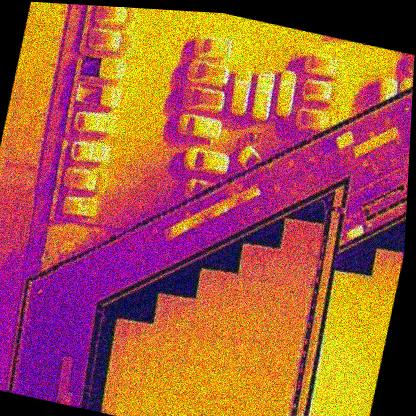Diode: (287, 315, 307, 349), (299, 255, 317, 288), (283, 346, 301, 378), (278, 376, 295, 409), (271, 407, 288, 416)
Hotspot: (192, 363, 214, 397), (166, 296, 186, 329), (107, 348, 126, 382), (136, 324, 156, 356), (180, 362, 198, 394), (186, 393, 207, 416), (200, 396, 219, 416), (309, 411, 327, 416)
Normal: (274, 313, 296, 350), (220, 272, 241, 309), (250, 246, 271, 282), (207, 271, 228, 307), (112, 380, 133, 416), (159, 327, 181, 361), (274, 248, 294, 285), (286, 252, 306, 289), (173, 328, 193, 365), (266, 373, 286, 410), (233, 338, 254, 373), (188, 301, 210, 334), (232, 276, 252, 312), (246, 340, 266, 376), (185, 330, 205, 366), (148, 323, 168, 359), (292, 221, 313, 255), (262, 313, 283, 347), (238, 309, 259, 343), (209, 335, 230, 369), (244, 277, 264, 312), (263, 248, 282, 284), (257, 280, 277, 314), (195, 269, 215, 303), (344, 329, 364, 363), (222, 336, 242, 370), (197, 332, 217, 366), (228, 369, 248, 403), (130, 353, 150, 387), (101, 378, 121, 412), (270, 346, 291, 378), (118, 350, 137, 385), (237, 245, 257, 278), (202, 303, 222, 336), (216, 368, 236, 401), (125, 383, 145, 416), (333, 327, 352, 361), (259, 343, 278, 377), (205, 366, 224, 400), (280, 220, 300, 252), (153, 295, 173, 327), (155, 358, 175, 390), (293, 285, 312, 318), (281, 284, 300, 317), (355, 332, 374, 365), (251, 311, 270, 344), (178, 298, 197, 331), (143, 355, 162, 388), (226, 307, 245, 339), (215, 305, 234, 337), (253, 374, 272, 406), (137, 386, 157, 416), (269, 282, 287, 315), (365, 334, 383, 366), (324, 327, 342, 359), (124, 321, 142, 353), (112, 320, 130, 352), (241, 372, 259, 404), (168, 360, 186, 392), (305, 224, 322, 257), (150, 387, 169, 416), (382, 251, 399, 283), (162, 389, 181, 416), (377, 280, 394, 310), (366, 278, 383, 308), (173, 392, 194, 416), (372, 250, 388, 281), (372, 307, 388, 338), (351, 302, 367, 333), (329, 298, 345, 329), (355, 277, 372, 306), (344, 275, 361, 304), (334, 272, 350, 301), (361, 306, 377, 335), (340, 302, 356, 330), (212, 398, 230, 416), (222, 399, 241, 416), (235, 401, 254, 416), (247, 403, 266, 416), (259, 405, 278, 416), (321, 412, 337, 416)
